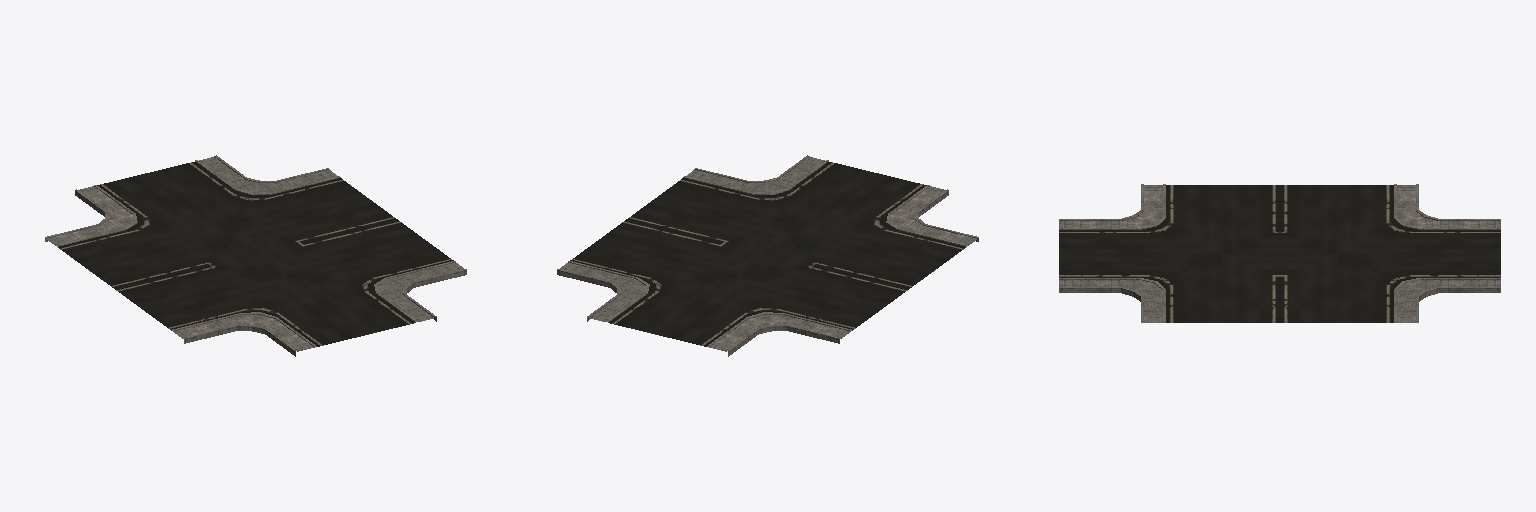
The picture shows the model from 3 angles: view 1: azimuth 30°, elevation 25°; view 2: azimuth 150°, elevation 25°; view 3: azimuth 270°, elevation 25°; orthographic projection.
Parts seen in each view (by area): view 1: 7_Road-Cross-Double-B-B; view 2: 7_Road-Cross-Double-B-B; view 3: 7_Road-Cross-Double-B-B.
Part boxes in pixels (bbox=[...]): 7_Road-Cross-Double-B-B: bbox=[45, 155, 466, 356]; 7_Road-Cross-Double-B-B: bbox=[557, 155, 978, 356]; 7_Road-Cross-Double-B-B: bbox=[1059, 184, 1500, 322].
Bounding box in the file's own units: 1.24 × 0.0219 × 1.67.
Materials: 1 (1 with a texture image).